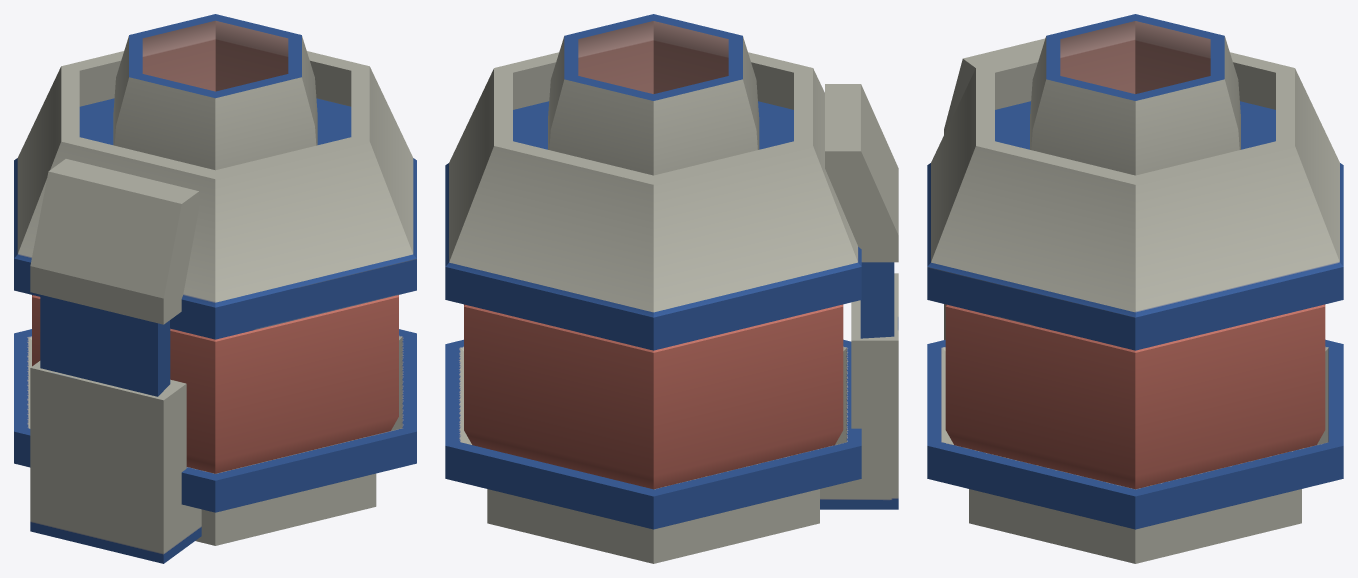
File: 检测小1.fbx
The picture shows the model from 3 angles, left to right: view 1: azimuth 30°, elevation 25°; view 2: azimuth 150°, elevation 25°; view 3: azimuth 270°, elevation 25°; orthographic projection. The views are drawn at different scales.
Visible parts, largest first — view 1: 柱体.024; view 2: 柱体.024; view 3: 柱体.024.
Part boxes in pixels (x1=…): 柱体.024: x1=14, y1=14, x2=416, y2=563; 柱体.024: x1=445, y1=14, x2=898, y2=563; 柱体.024: x1=927, y1=14, x2=1343, y2=563.
Size of the model in its own units: 171 by 163 by 144.
1 material, 1 textured.
